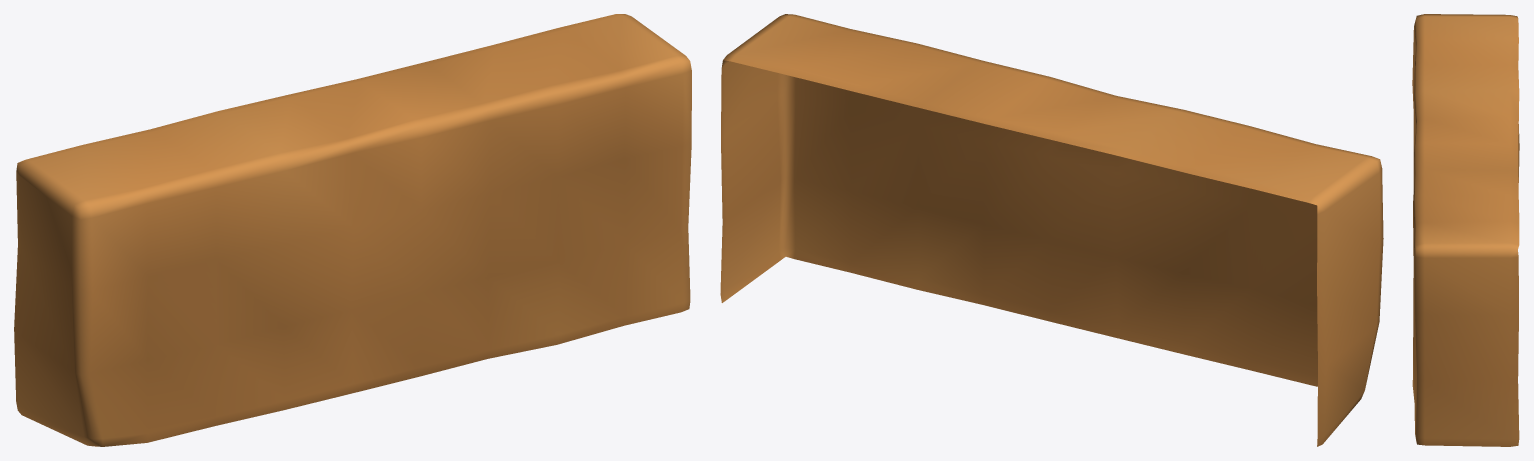
Rendered from block_f.glb.
3 views of the same model, side by side, from view 1: azimuth 30°, elevation 25°; view 2: azimuth 150°, elevation 25°; view 3: azimuth 270°, elevation 25° (orthographic). The views are drawn at different scales.
Parts seen in each view (by area): view 1: block_f; view 2: block_f; view 3: block_f.
Boxes of the visible parts, x1,y1,x2,y2 form: block_f: (14, 14, 691, 446); block_f: (720, 14, 1383, 446); block_f: (1412, 14, 1519, 446).
Size of the model in its own units: 1.91 by 0.7543 by 0.3654.
